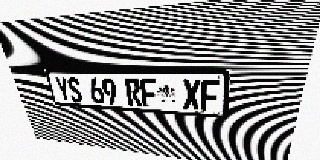6: (87, 78, 105, 104)
9: (101, 78, 119, 105)
F: (201, 79, 220, 111), (140, 78, 157, 107)
R: (124, 78, 142, 106)
S: (66, 77, 84, 103)
X: (183, 79, 200, 110)
Y: (54, 77, 72, 102)
